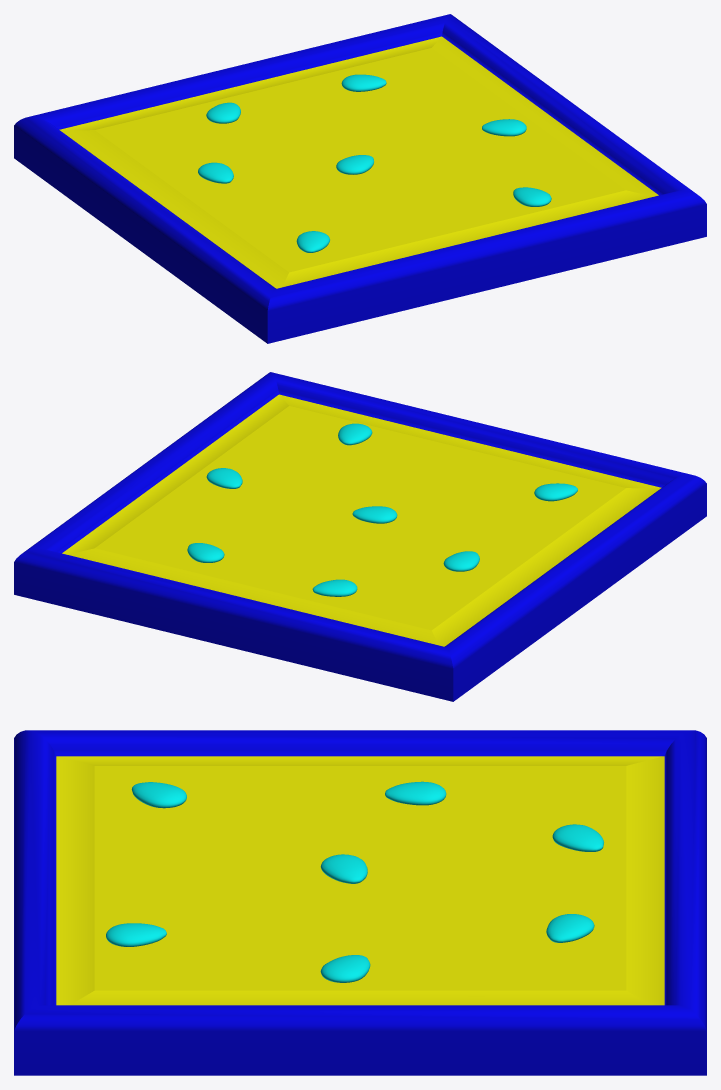
Rendered from Stage_1.fbx.
3 renders of one model, top to bottom at view 1: azimuth 30°, elevation 25°; view 2: azimuth 150°, elevation 25°; view 3: azimuth 270°, elevation 25°, orthographic. The views are drawn at different scales.
Parts seen in each view (by area): view 1: Bed, Seed_7, Seed_2, Seed_6, Seed_4, Seed_5, Seed_3, Seed_1; view 2: Bed, Seed_5, Seed_3, Seed_1, Seed_4, Seed_6, Seed_2, Seed_7; view 3: Bed, Seed_4, Seed_6, Seed_1, Seed_3, Seed_2, Seed_7, Seed_5.
Part boxes in pixels (<box>): Bed: <box>14,14,706,343</box>; Seed_7: <box>341,74,386,91</box>; Seed_2: <box>482,119,526,136</box>; Seed_6: <box>513,187,551,206</box>; Seed_4: <box>198,162,233,183</box>; Seed_5: <box>336,155,373,174</box>; Seed_3: <box>206,102,240,123</box>; Seed_1: <box>296,231,329,252</box>; Bed: <box>14,372,706,701</box>; Seed_5: <box>352,506,397,523</box>; Seed_3: <box>312,579,357,596</box>; Seed_1: <box>534,483,577,501</box>; Seed_4: <box>443,551,479,571</box>; Seed_6: <box>338,423,372,445</box>; Seed_2: <box>206,468,242,488</box>; Seed_7: <box>187,543,224,562</box>; Bed: <box>14,730,706,1075</box>; Seed_4: <box>385,781,446,805</box>; Seed_6: <box>106,923,166,946</box>; Seed_1: <box>131,782,186,808</box>; Seed_3: <box>552,824,603,851</box>; Seed_2: <box>320,955,370,982</box>; Seed_7: <box>546,914,594,942</box>; Seed_5: <box>320,854,367,883</box>.
Size of the model in its own units: 4.24 by 0.4106 by 4.24.
